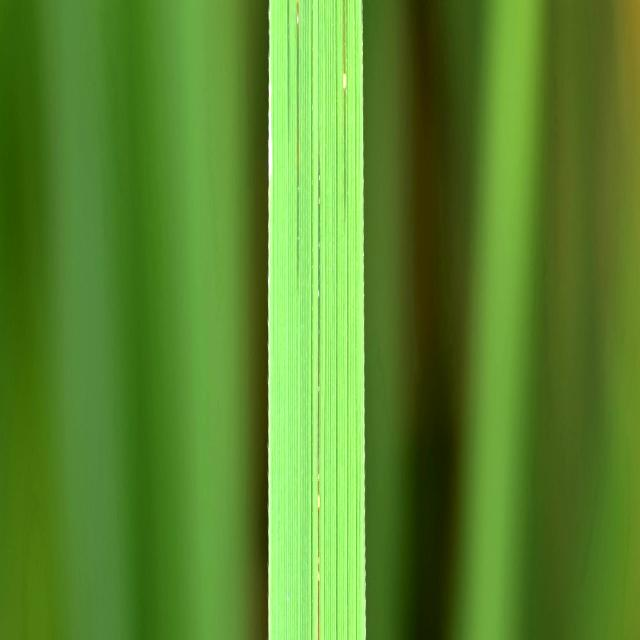BLS: (317, 140, 321, 640), (343, 0, 350, 219), (296, 0, 299, 304), (287, 0, 289, 193)
